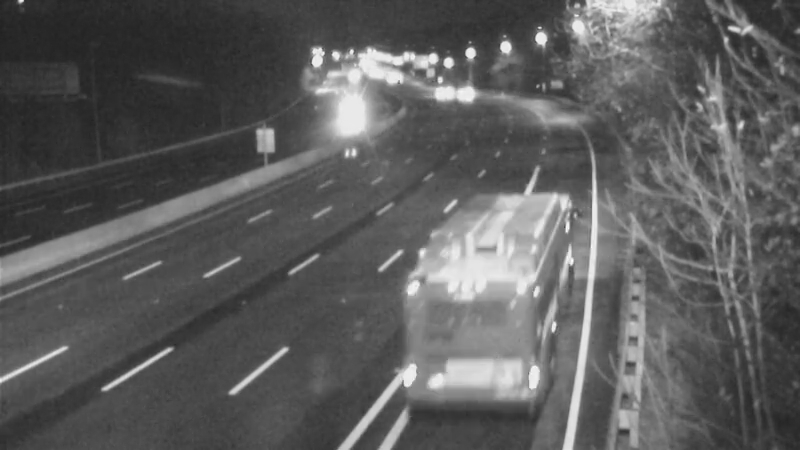vehicle: (422, 248, 532, 358), (410, 65, 460, 115), (435, 68, 485, 118), (328, 83, 378, 133)
